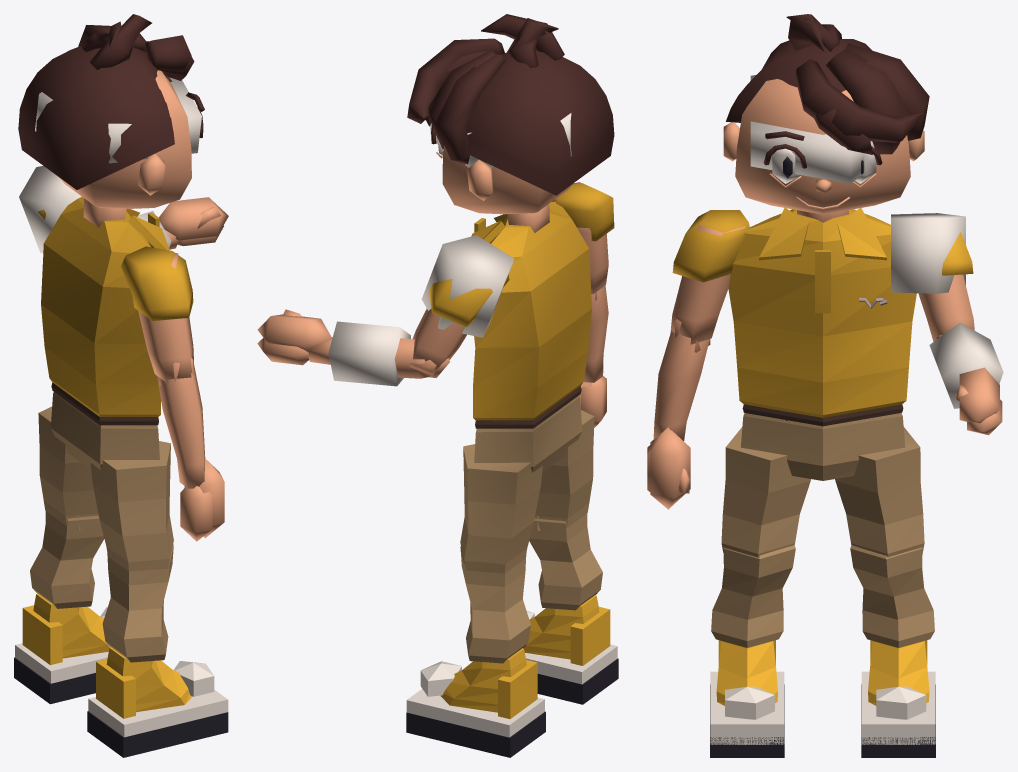
File: npc.shelter-survivor.bandaged.lod2.glb
3 views of the same model, side by side, from view 1: azimuth 30°, elevation 25°; view 2: azimuth 150°, elevation 25°; view 3: azimuth 270°, elevation 25° (orthographic). The views are drawn at different scales.
Visible parts, largest first — view 1: head, torso, footR, legR, footL, armR, shinR, hip, shinL, legL, foreArmR, armL (+2 smaller); view 2: head, torso, footL, armL, legL, footR, foreArmL, shinL, hip, shinR, legR, armR (+3 smaller); view 3: torso, head, hip, footR, footL, armL, legR, legL, armR, shinL, shinR, foreArmR (+3 smaller).
Boxes of the visible parts, box(x1,y1,x2,y2) form: head: box(18, 14, 204, 227); torso: box(41, 197, 169, 416); footR: box(87, 647, 228, 757); legR: box(90, 441, 173, 571); footL: box(14, 593, 110, 704); armR: box(121, 246, 193, 383); shinR: box(102, 544, 173, 662); hip: box(50, 382, 159, 469); shinL: box(30, 511, 104, 608); legL: box(38, 406, 98, 525); foreArmR: box(157, 357, 205, 488); armL: box(19, 165, 81, 253); head: box(407, 14, 614, 232); torso: box(471, 201, 591, 420); footL: box(406, 648, 545, 757); armL: box(409, 235, 514, 375); legL: box(460, 444, 542, 573); footR: box(523, 595, 618, 704); foreArmL: box(306, 321, 449, 386); shinL: box(460, 546, 530, 663); hip: box(474, 386, 582, 472); shinR: box(529, 513, 602, 610); legR: box(535, 410, 594, 527); armR: box(552, 182, 614, 293); torso: box(728, 208, 916, 417); head: box(723, 14, 929, 222); hip: box(740, 404, 905, 480); footR: box(710, 640, 784, 757); footL: box(861, 640, 935, 757); armL: box(891, 213, 974, 341); legR: box(721, 427, 810, 557); legL: box(835, 427, 924, 557); armR: box(670, 210, 749, 344); shinL: box(850, 545, 934, 647); shinR: box(711, 545, 795, 647); foreArmR: box(653, 319, 710, 441).
Size of the model in its own units: 0.6997 by 1.8 by 0.8164.
